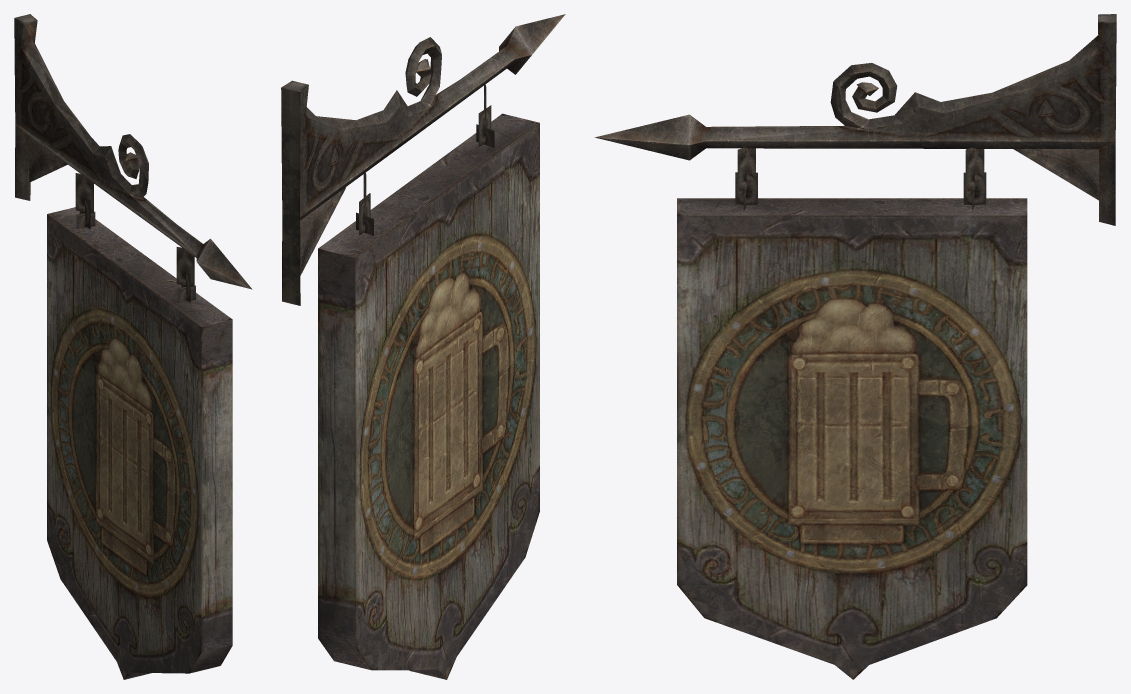
Rendered from bg_lut_mawport_pubsign01_sm_artree.FBX.
3 renders of one model, left to right at view 1: azimuth 30°, elevation 25°; view 2: azimuth 150°, elevation 25°; view 3: azimuth 270°, elevation 25°, orthographic. The views are drawn at different scales.
Parts seen in each view (by area): view 1: bg_lut_mawport_pubsign01_sm_artree; view 2: bg_lut_mawport_pubsign01_sm_artree; view 3: bg_lut_mawport_pubsign01_sm_artree.
Part boxes in pixels (box(x1,y1,x2,y2)): bg_lut_mawport_pubsign01_sm_artree: box(14, 14, 252, 679); bg_lut_mawport_pubsign01_sm_artree: box(281, 14, 565, 679); bg_lut_mawport_pubsign01_sm_artree: box(594, 14, 1116, 679).
Size of the model in its own units: 6.16 by 108 by 78.44.
